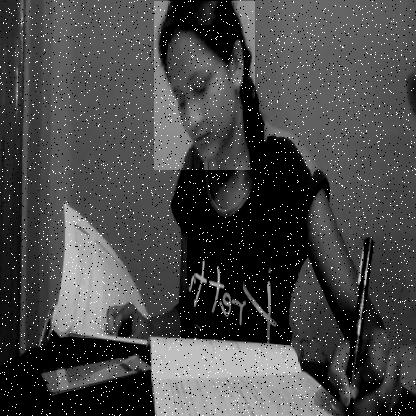Distracted: (154, 1, 255, 170)
